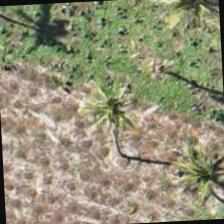Kelapa_Sawit: (74, 105, 168, 200), (174, 156, 223, 222)
